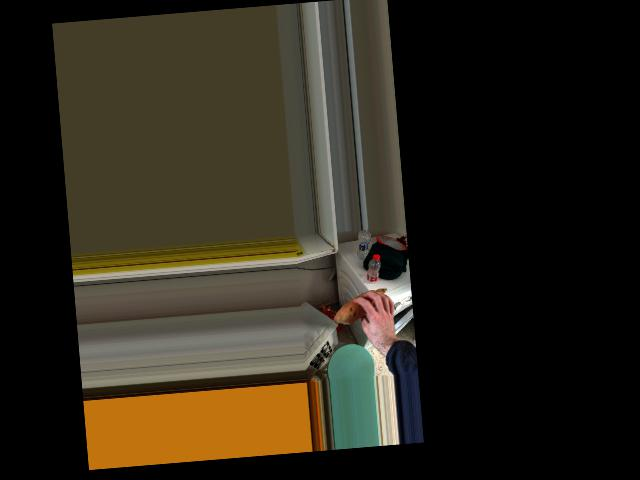sweet_potato: (333, 287, 392, 324)
